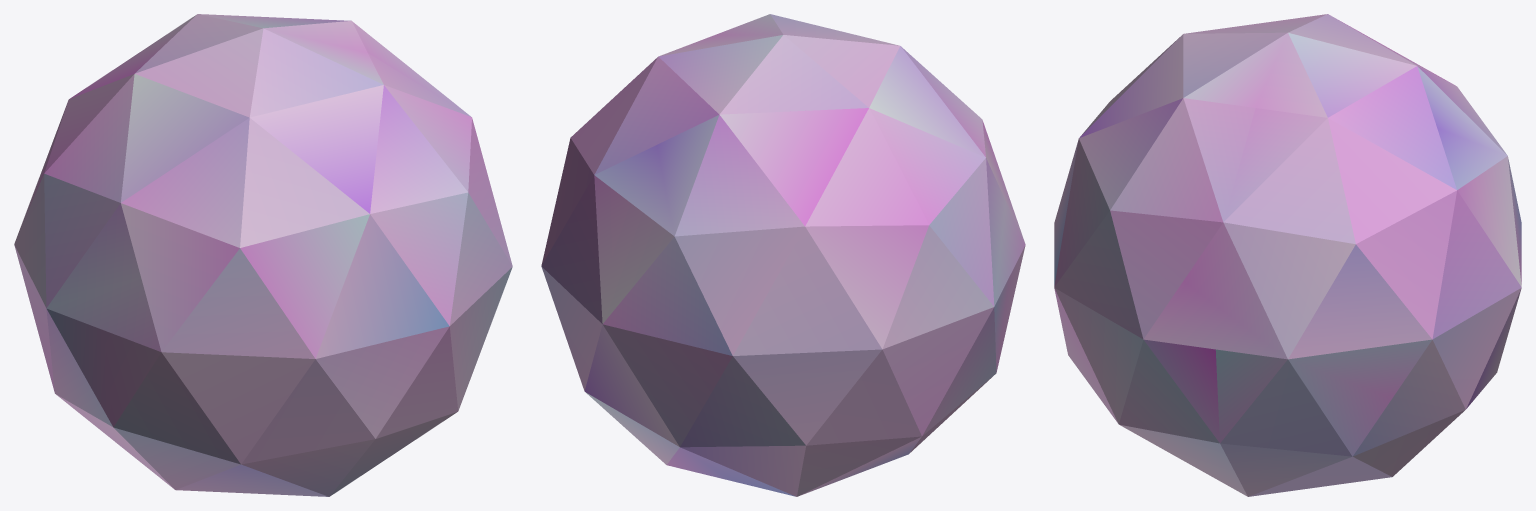
3 renders of one model, left to right at view 1: azimuth 30°, elevation 25°; view 2: azimuth 150°, elevation 25°; view 3: azimuth 270°, elevation 25°, orthographic. The views are drawn at different scales.
Visible parts, largest first — view 1: facets; view 2: facets; view 3: facets.
Part boxes in pixels (<box>): facets: <box>14,14,512,496</box>; facets: <box>541,14,1025,496</box>; facets: <box>1054,14,1521,496</box>.
Size of the model in its own units: 15 by 15 by 14.27.
